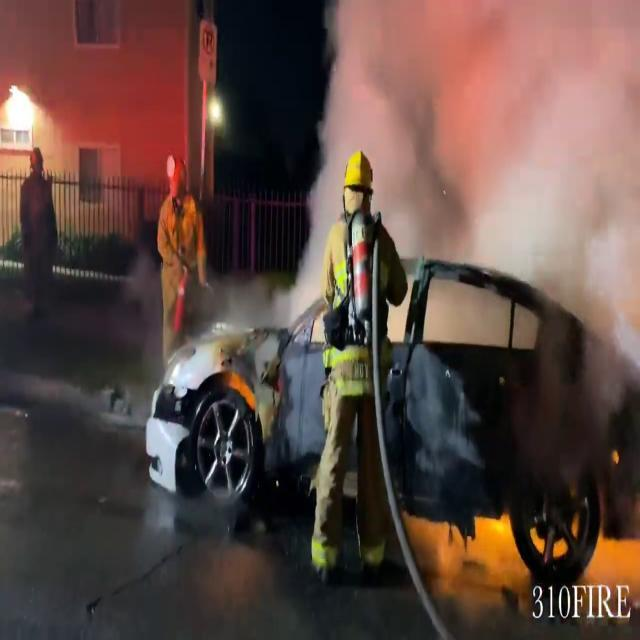Smoke: (297, 0, 640, 302)
